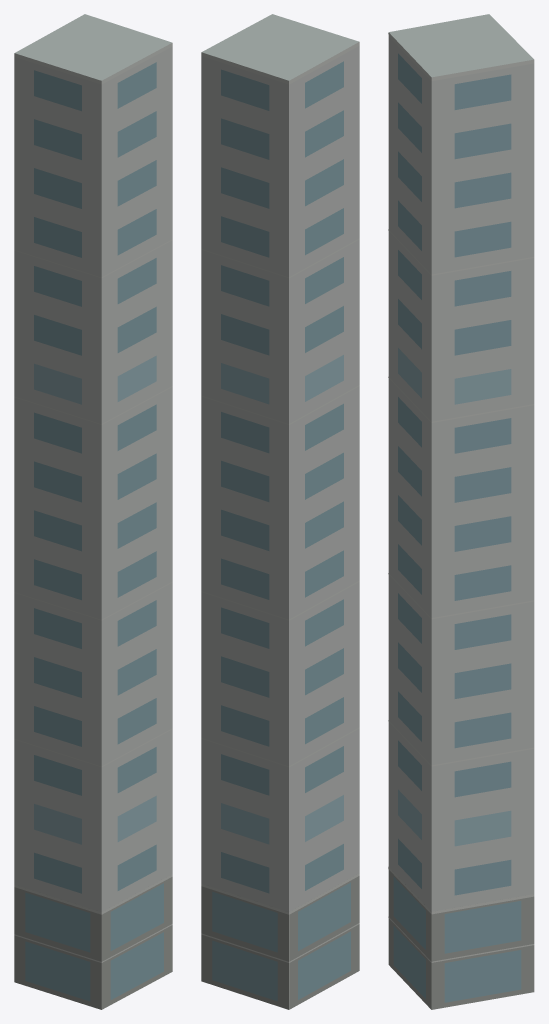
The model's file is survey-upis-32907028.glb.
3 views of the same model, side by side, from view 1: azimuth 30°, elevation 25°; view 2: azimuth 210°, elevation 25°; view 3: azimuth 270°, elevation 25° (orthographic).
Parts seen in each view (by area): view 1: survey-upis-32907028.tmp; view 2: survey-upis-32907028.tmp; view 3: survey-upis-32907028.tmp.
Boxes of the visible parts, x1,y1,x2,y2 form: survey-upis-32907028.tmp: [14, 14, 172, 1009]; survey-upis-32907028.tmp: [201, 14, 359, 1009]; survey-upis-32907028.tmp: [388, 14, 534, 1009].
Size of the model in its own units: 8.47 by 57.95 by 8.24.
